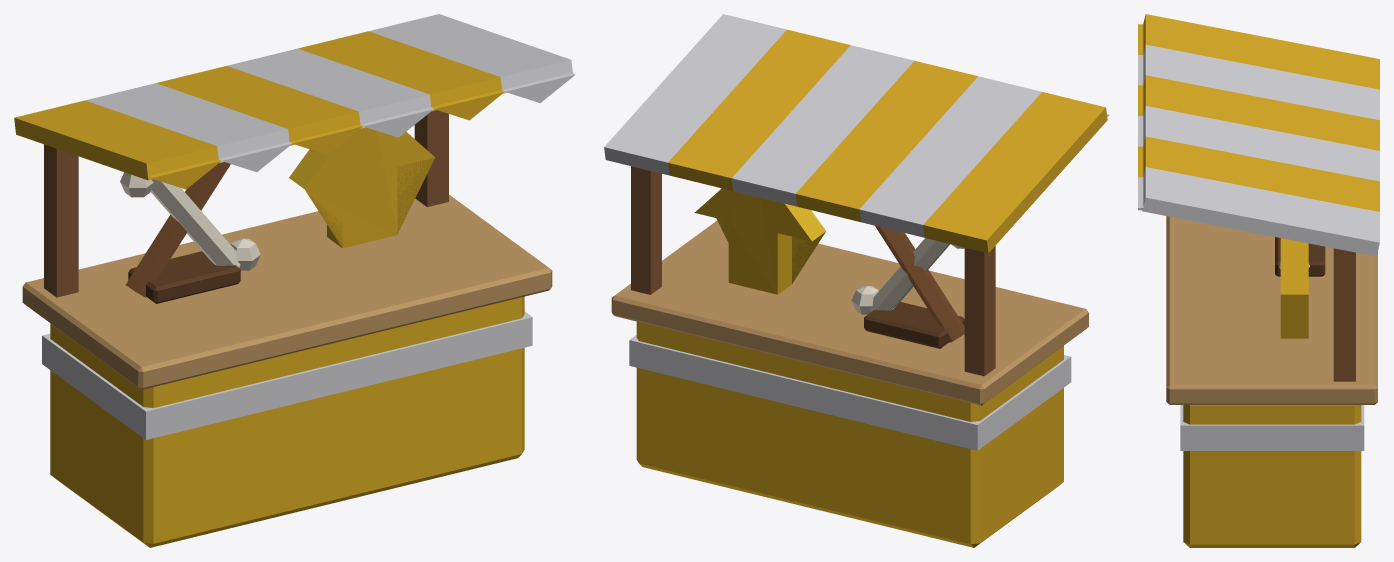
Rendered from Prop_UpgradeStand_ProjectileTier.fbx.
3 renders of one model, left to right at view 1: azimuth 30°, elevation 25°; view 2: azimuth 150°, elevation 25°; view 3: azimuth 270°, elevation 25°, orthographic. The views are drawn at different scales.
Visible parts, largest first — view 1: Body; view 2: Body; view 3: Body.
Boxes of the visible parts, left/top/right/bottom form: Body: left=14, top=14, right=575, bottom=547; Body: left=604, top=14, right=1109, bottom=547; Body: left=1138, top=14, right=1379, bottom=547.
Bounding box in the file's own units: 7.8 × 7.18 × 4.34.
